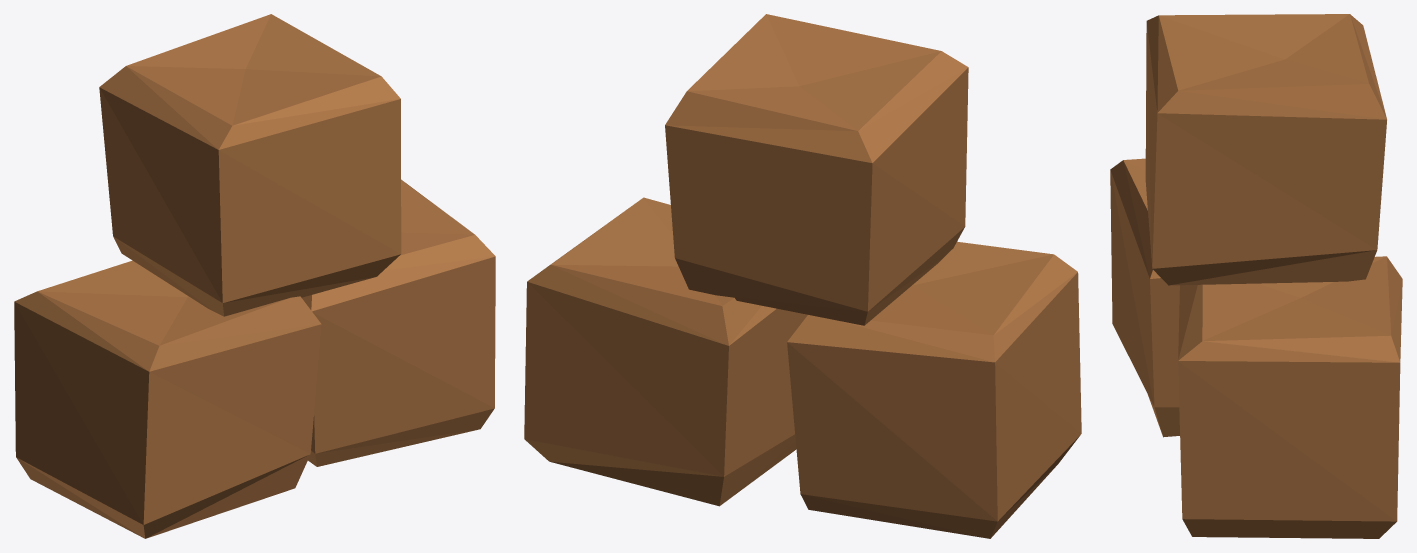
Rendered from SM_CaramelCubes.fbx.
3 renders of one model, left to right at view 1: azimuth 30°, elevation 25°; view 2: azimuth 150°, elevation 25°; view 3: azimuth 270°, elevation 25°, orthographic. The views are drawn at different scales.
Parts seen in each view (by area): view 1: Caramel_Cubes; view 2: Caramel_Cubes; view 3: Caramel_Cubes.
Part boxes in pixels (x1,y1,x2,y2): Caramel_Cubes: (14, 14, 495, 538); Caramel_Cubes: (524, 14, 1081, 538); Caramel_Cubes: (1110, 14, 1402, 538).
Bounding box in the file's own units: 0.1293 × 0.1133 × 0.0763.
